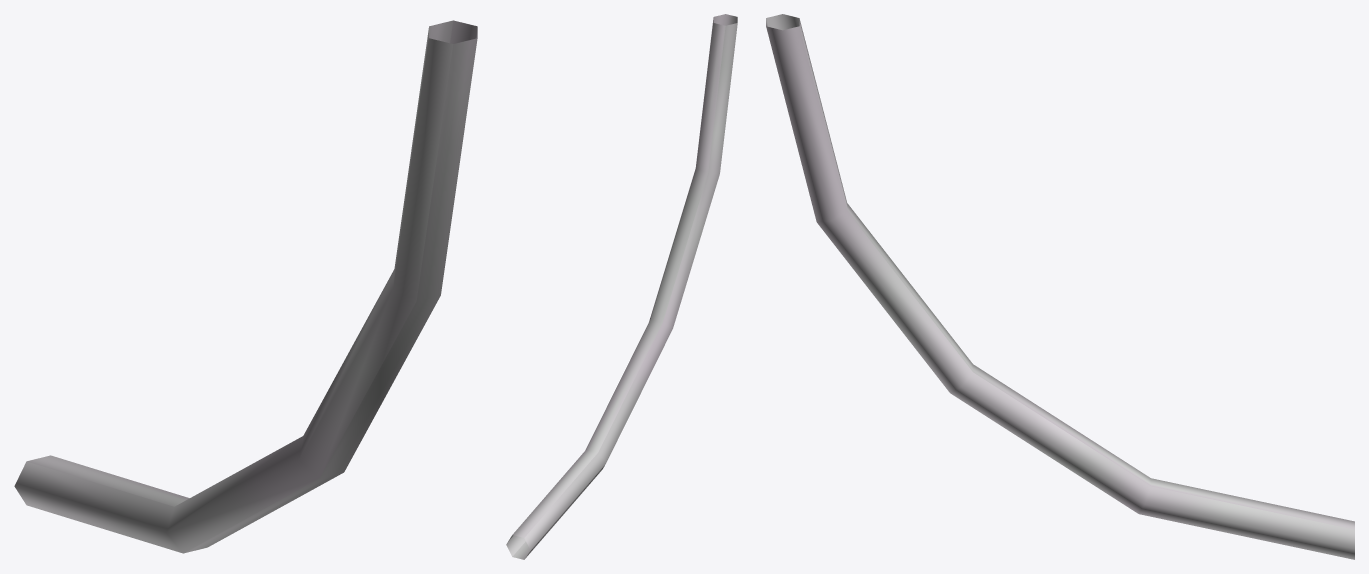
The model's file is cable_bend_small.dae.
3 views of the same model, side by side, from view 1: azimuth 30°, elevation 25°; view 2: azimuth 150°, elevation 25°; view 3: azimuth 270°, elevation 25° (orthographic). The views are drawn at different scales.
Visible parts, largest first — view 1: Mesh; view 2: Mesh; view 3: Mesh.
Boxes of the visible parts, box(x1,y1,x2,y2) form: Mesh: box(14, 20, 477, 553); Mesh: box(506, 14, 737, 559); Mesh: box(766, 14, 1354, 559).
Bounding box in the file's own units: 0.0169 × 0.2573 × 0.2573.
